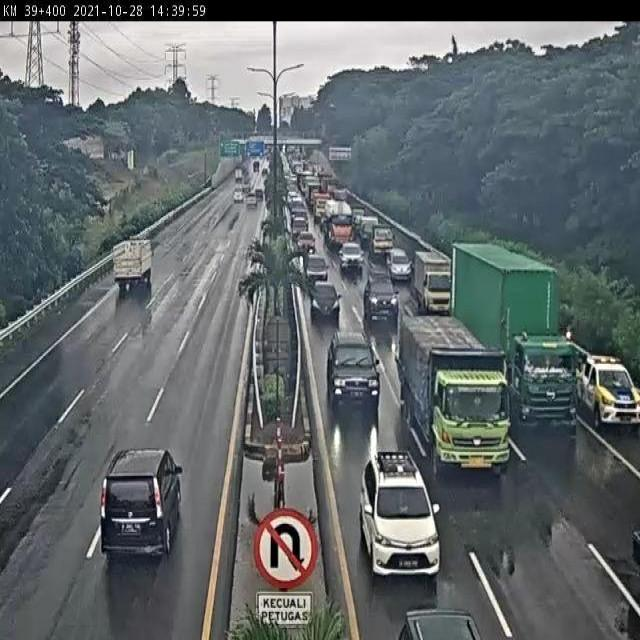big truck: (452, 243, 577, 427), (398, 314, 511, 466)
car: (359, 452, 442, 577), (100, 449, 183, 559), (575, 353, 640, 427), (327, 334, 380, 406), (362, 269, 398, 316), (311, 278, 341, 318), (387, 248, 412, 281), (369, 224, 394, 256), (338, 239, 364, 269), (304, 255, 330, 284)
mid truck: (111, 238, 155, 294)
small truck: (414, 251, 457, 316)
